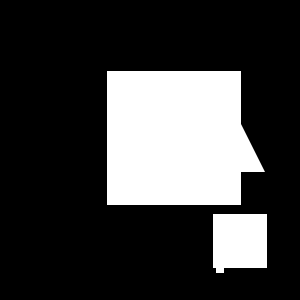circle: (107, 71, 241, 205), (213, 214, 267, 268), (216, 265, 224, 273)
triangle: (201, 108, 265, 172)
